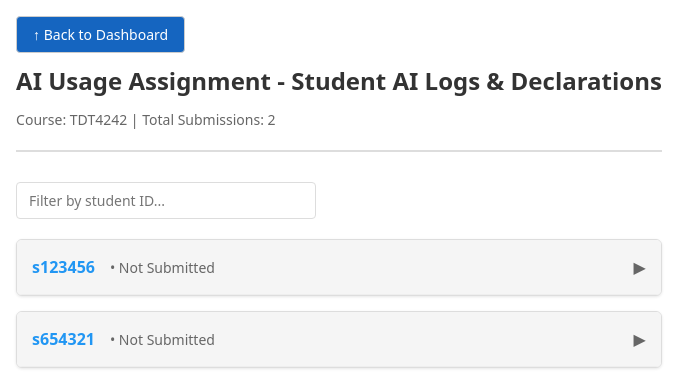
Test: ViewStudentLogs component (UT06) › filters students by student id substring
The width and height of the screenshot is (679, 386).
Check: the text "s123456" is shown, box [32,255,95,279]
Check: the text "s654321" is shown, box [32,327,95,351]
In the field with placeholder "Filter by student ID...": (166, 200) [16,182,316,219], type "123"
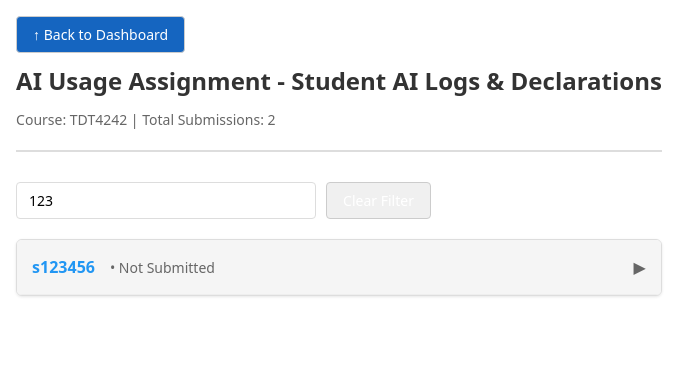
Check: the text "s123456" is shown, box [32,255,95,279]
Check: the text "s654321" is gone
Click the button "Clear Filter": (379, 200) [326,182,431,219]
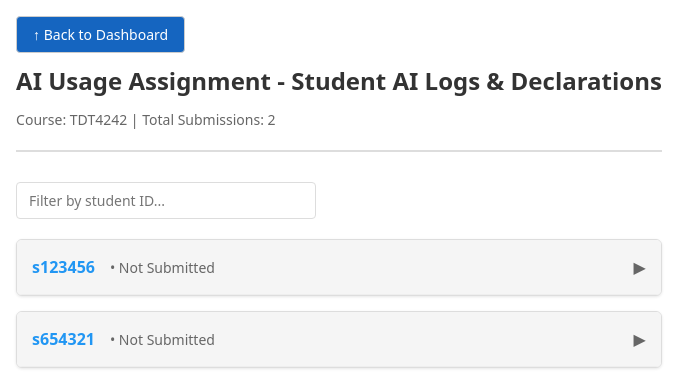
Check: the text "s123456" is shown, box [32,255,95,279]
Check: the text "s654321" is shown, box [32,327,95,351]
